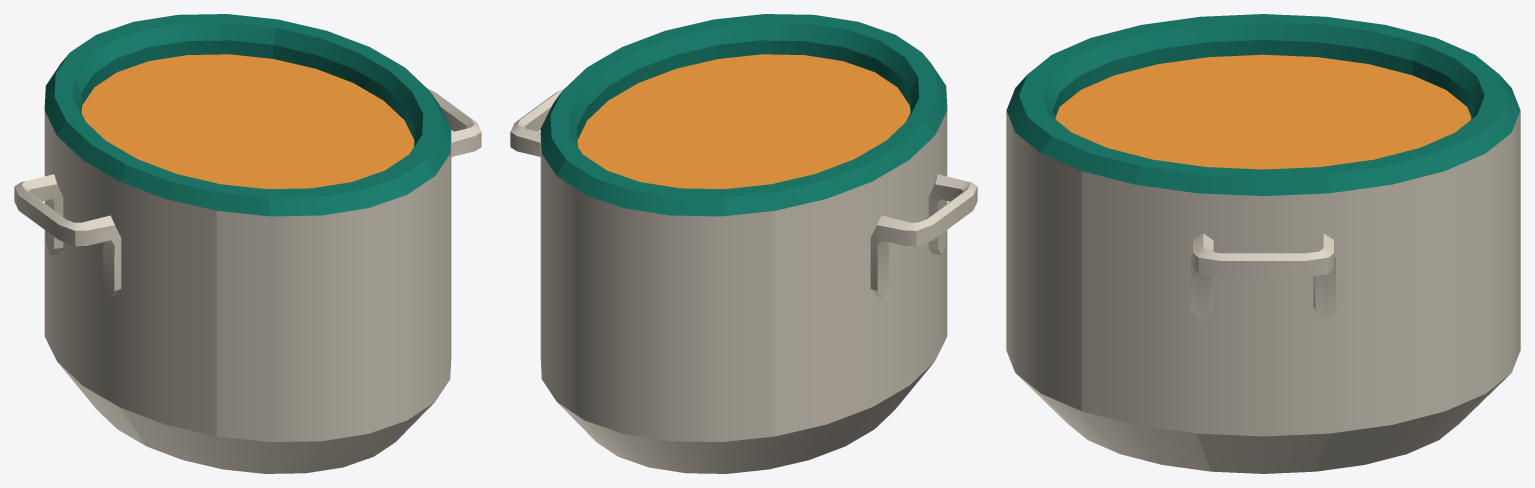
Rendered from pot_c.glb.
3 views of the same model, side by side, from view 1: azimuth 30°, elevation 25°; view 2: azimuth 150°, elevation 25°; view 3: azimuth 270°, elevation 25° (orthographic). The views are drawn at different scales.
Visible parts, largest first — view 1: body; view 2: body; view 3: body.
Boxes of the visible parts, <box> form: body: <box>14,14,481,473</box>; body: <box>510,14,977,473</box>; body: <box>1006,14,1520,473</box>.
Size of the model in its own units: 0.24 by 0.16 by 0.24.
